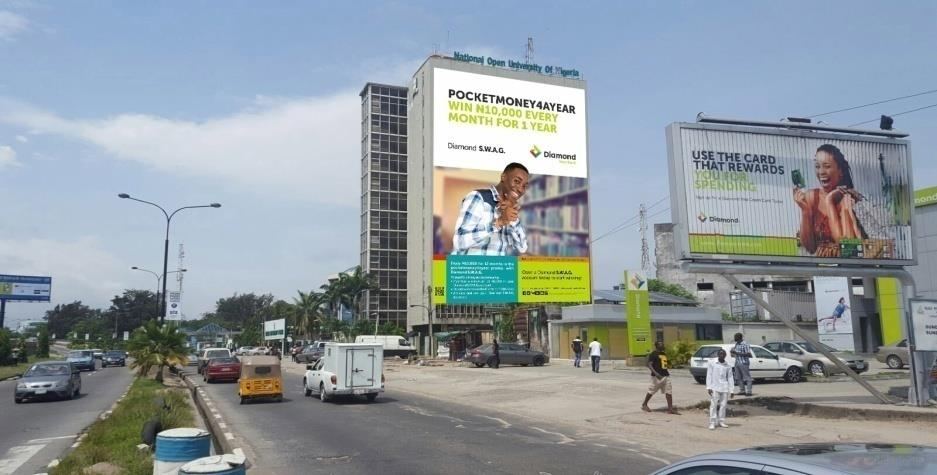Billboard: (408, 56, 590, 330), (668, 118, 922, 274), (0, 274, 50, 299)
